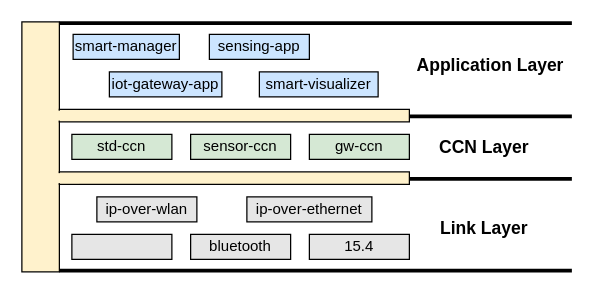
Some shapes in this 596 by 295 pixel diagram are drawn without their labels. The box of each missing label's shape, as (x1, y1, x2, y2) in pixels:
Inter-layer Manager: (21, 21, 59, 272)
lora: (71, 233, 172, 259)
